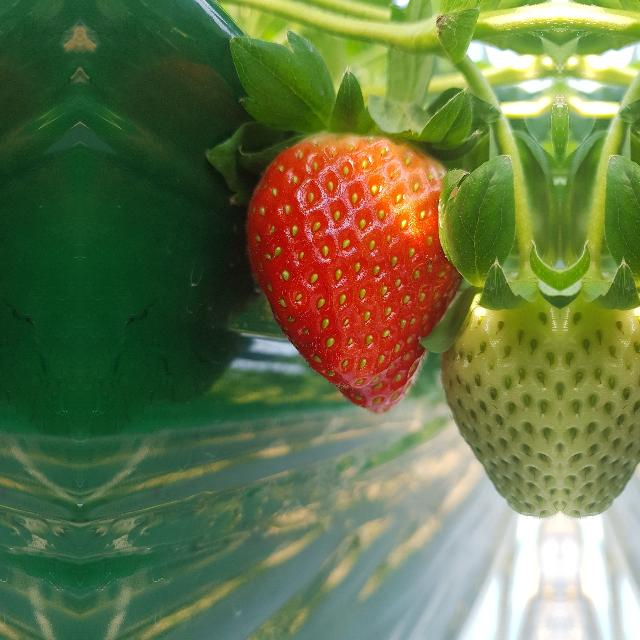Health_100: (244, 130, 464, 416)
Health_25: (444, 270, 556, 516), (563, 270, 640, 516)
